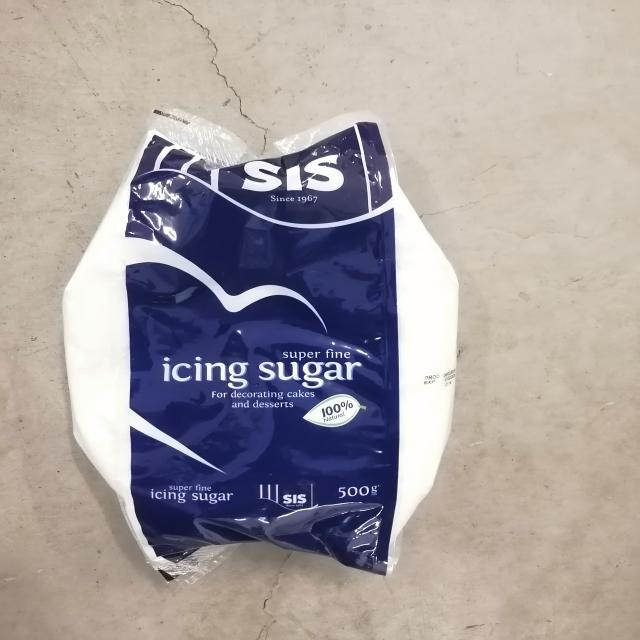object_name: (106, 150, 423, 559)
